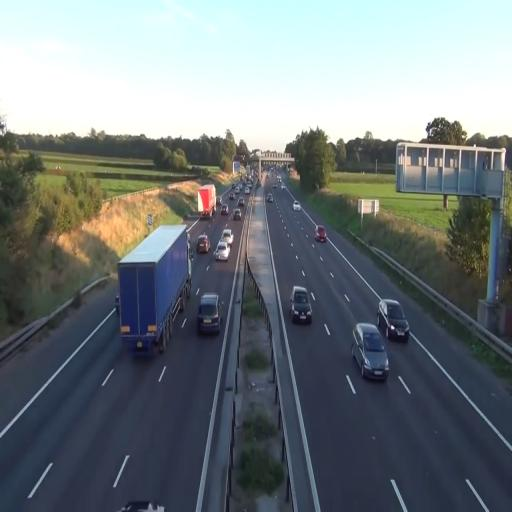vehicle: (117, 221, 191, 356), (352, 321, 390, 379), (377, 299, 410, 343), (197, 292, 222, 335), (291, 285, 313, 324), (196, 183, 216, 219), (196, 183, 216, 218), (215, 228, 233, 261), (215, 238, 232, 260), (196, 233, 210, 256), (316, 226, 326, 242)
